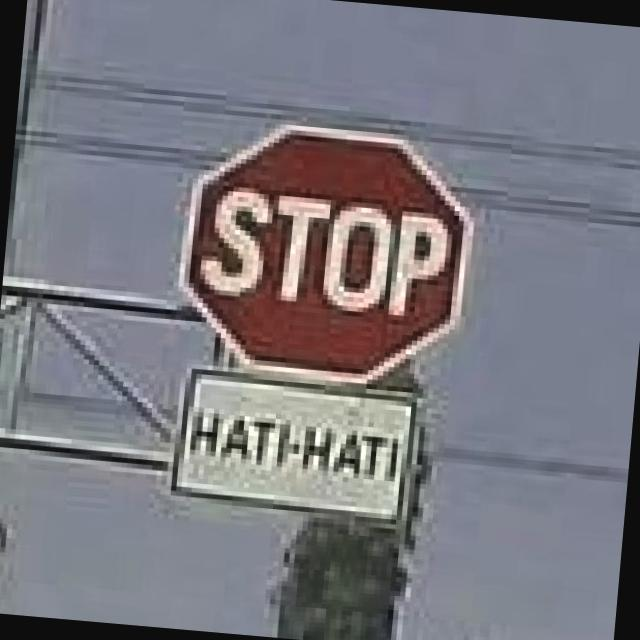Stop: (180, 117, 477, 401)
